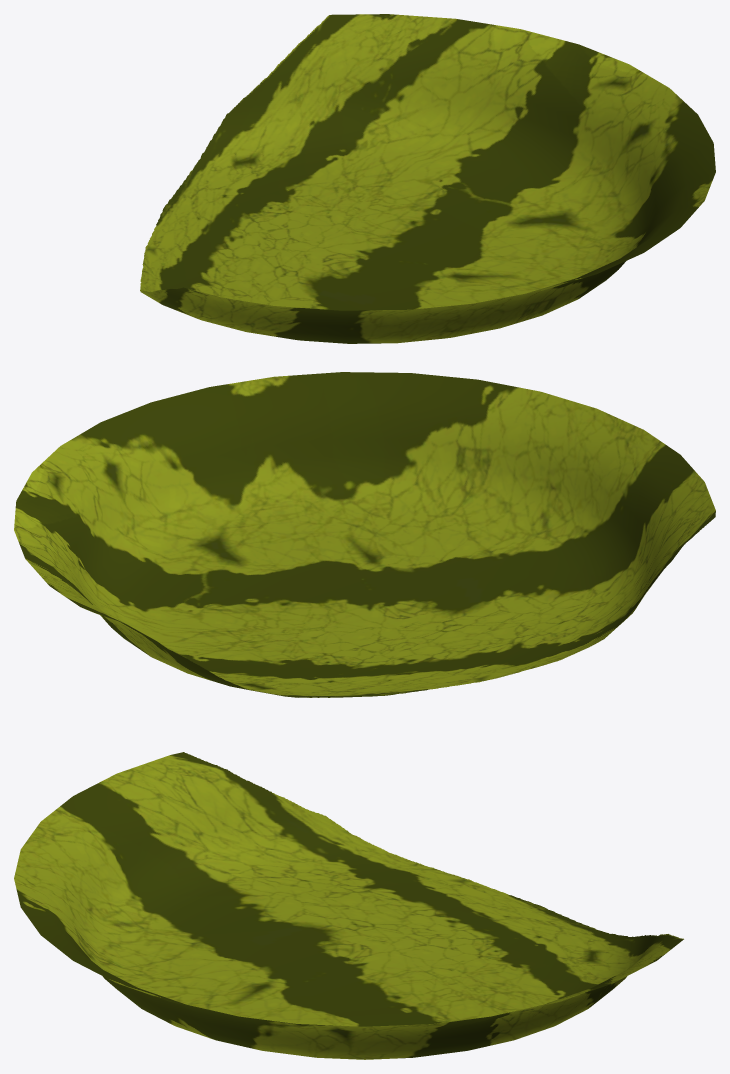
Rendered from InsideBowl.fbx.
3 views of the same model, one above another, from view 1: azimuth 30°, elevation 25°; view 2: azimuth 150°, elevation 25°; view 3: azimuth 270°, elevation 25° (orthographic).
Visible parts, largest first — view 1: 00. Bowl.001; view 2: 00. Bowl.001; view 3: 00. Bowl.001.
Boxes of the visible parts, bbox=[...] form: 00. Bowl.001: bbox=[140, 14, 715, 343]; 00. Bowl.001: bbox=[14, 372, 715, 697]; 00. Bowl.001: bbox=[14, 752, 683, 1059].
Size of the model in its own units: 79.12 by 10.9 by 79.12.
